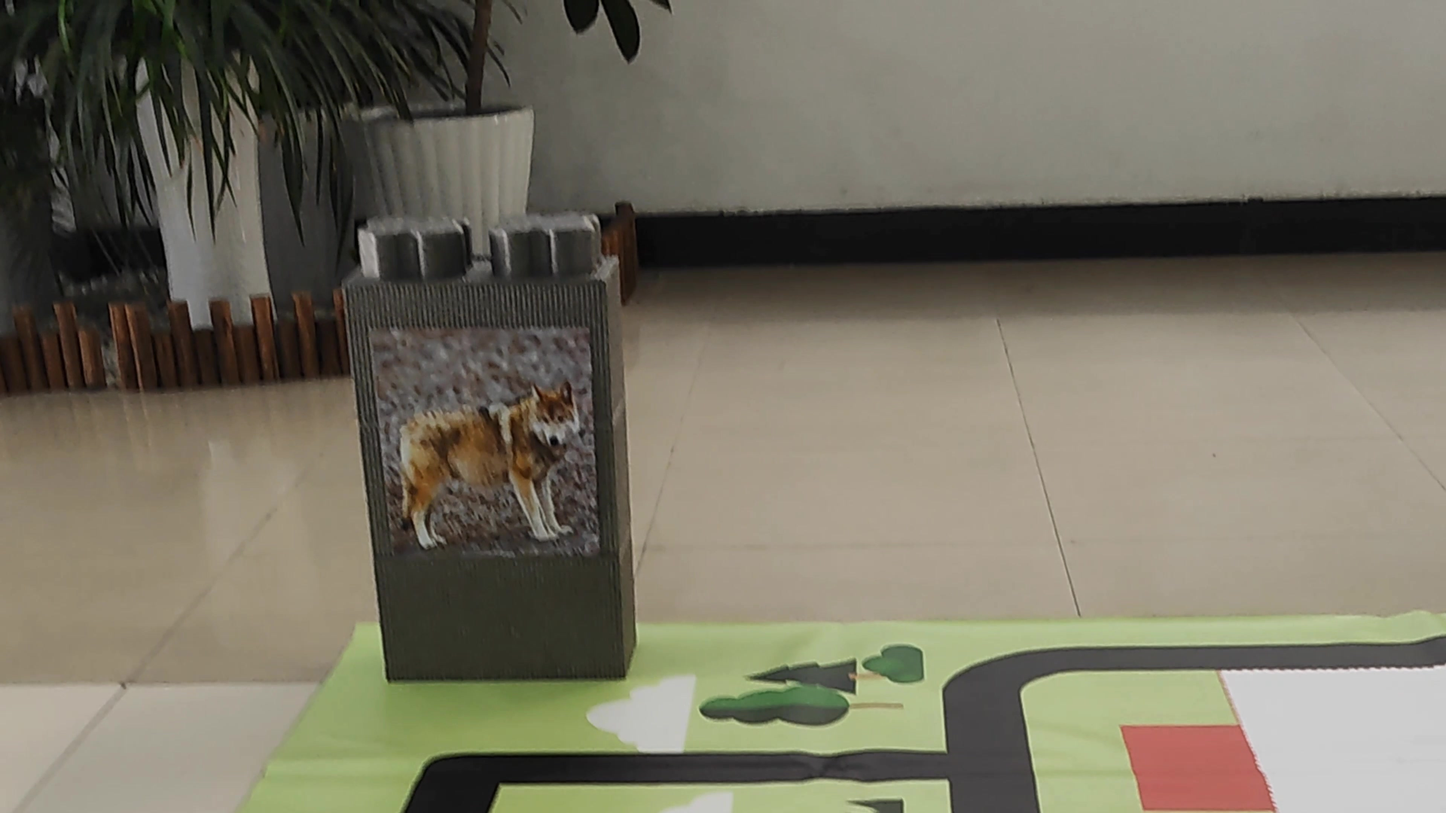wolf: (373, 383, 578, 545)
